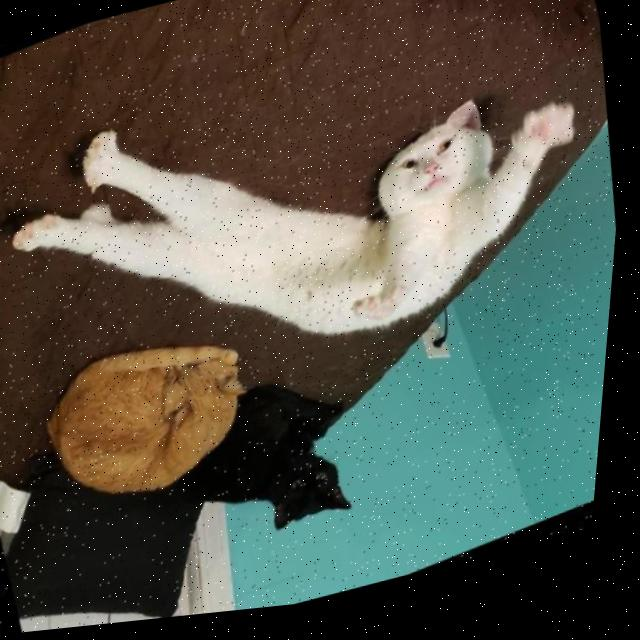Cats: (0, 0, 640, 467), (26, 302, 289, 550), (184, 364, 392, 569)
